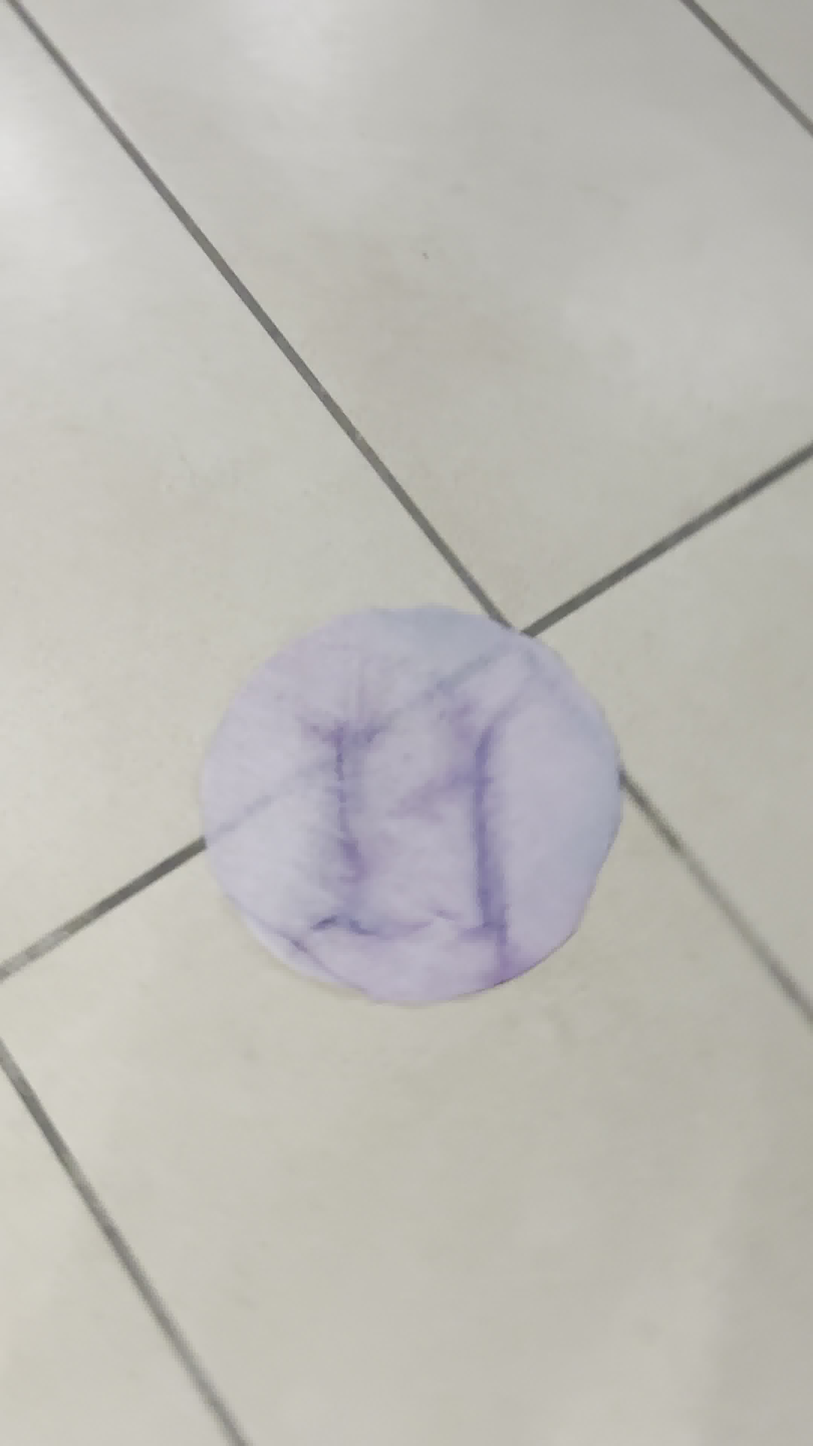Target: (196, 602, 623, 1008)
